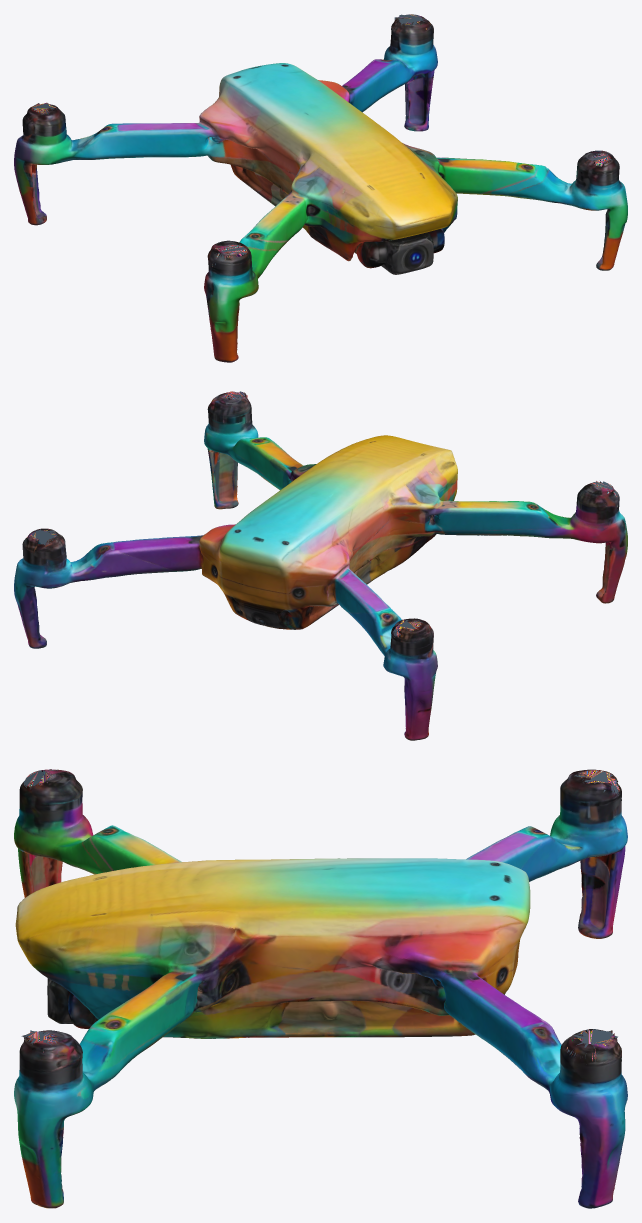
The model's file is drone5.glb.
3 views of the same model, one above another, from view 1: azimuth 30°, elevation 25°; view 2: azimuth 150°, elevation 25°; view 3: azimuth 270°, elevation 25° (orthographic). The views are drawn at different scales.
Visible parts, largest first — view 1: Mesh_0; view 2: Mesh_0; view 3: Mesh_0.
Part boxes in pixels (x1,y1,x2,y2): Mesh_0: (14, 14, 627, 362); Mesh_0: (14, 391, 627, 740); Mesh_0: (14, 769, 627, 1208).
Bounding box in the file's own units: 1.32 × 0.403 × 1.16.
1 material, 1 textured.
